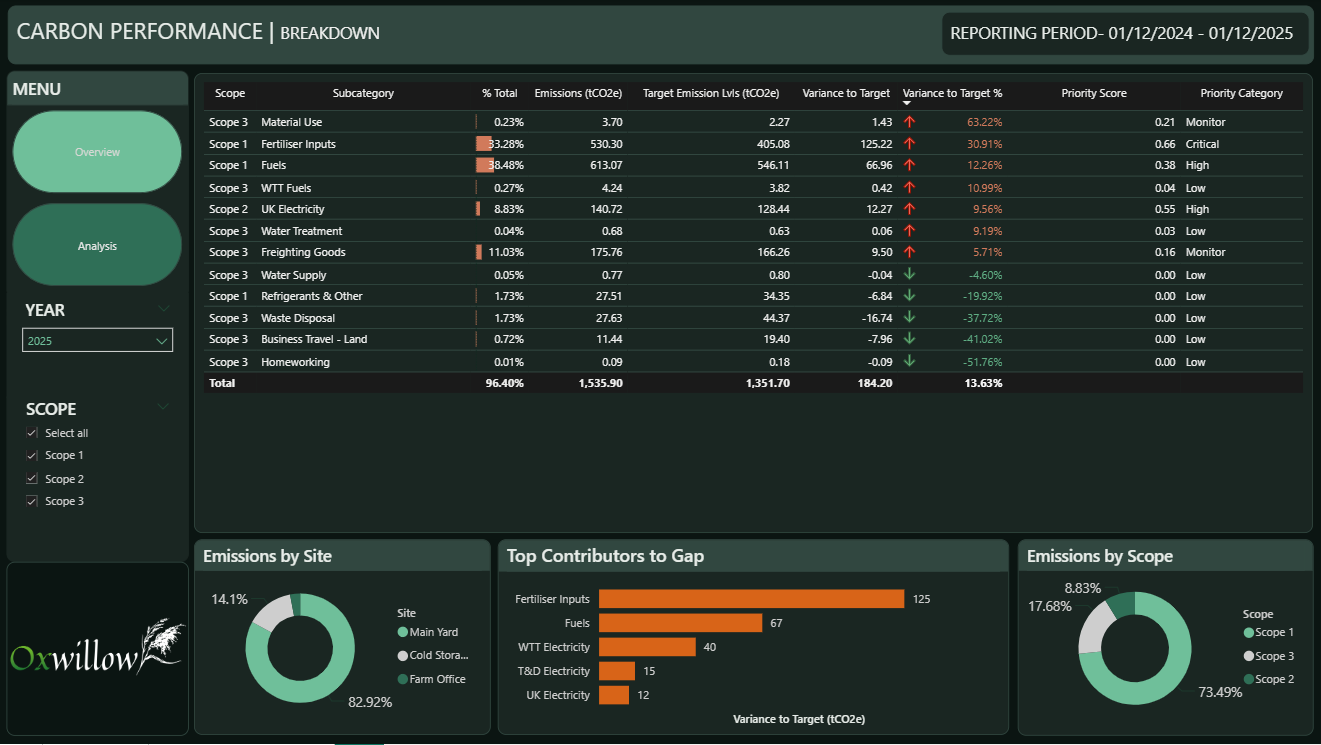

This screenshot's page, from the dashboard's own definition file:
{"tool":"powerbi","page":{"name":"Analysis","canvas":[1280,720],"ordinal":1},"visuals":[{"type":"textbox","box":[7.9,7.1,1260.7,57.1],"z":0},{"type":"slicer","title":"SCOPE","fields":{"Values":["4yrs of C.Scope"]},"box":[7.7,379.1,176.2,165.5],"z":0,"group":"g1"},{"type":"pageNavigator","title":"MENU","box":[7.7,70,176,219.7],"z":1000,"group":"g1"},{"type":"tableEx","fields":{"Values":["4yrs of C.Scope","4yrs of C.Subcategory","4yrs of C.% of Total Emissions (Selected Year)","4yrs of C.Total tCO2e (Selected Year)","4yrs of C.Target tCO2e","4yrs of C.Variance to Target","4yrs of C.Variance to Target %","4yrs of C.Priority Score","4yrs of C.Priority Category"]},"box":[188.6,72.1,1080,444.3],"z":1000},{"type":"slicer","title":"YEAR","fields":{"Values":["4yrs of C.Year"]},"box":[7.8,284.9,176,100.5],"z":2000,"group":"g1"},{"type":"barChart","title":"Top Contributors to Gap ","fields":{"Category":["4yrs of C.Subcategory"],"Y":["4yrs of C.Variance to Target"]},"box":[480.9,522.7,493.6,189.1],"z":2000},{"type":"donutChart","title":"Emissions by Scope","fields":{"Category":["4yrs of C.Scope"],"Y":["4yrs of C.Total tCO2e (Selected Year)"]},"box":[982.9,522.9,285.7,189.3],"z":3000},{"type":"donutChart","title":"Emissions by Site","fields":{"Category":["4yrs of C.Site"],"Y":["4yrs of C.Total tCO2e (Selected Year)"]},"box":[188.2,522.7,286.4,189.1],"z":4000},{"type":"textbox","box":[910,13.1,355.4,42.3],"z":5000},{"type":"group","id":"g1","title":"Menu","box":[7.7,70,176.2,474.6],"z":6000},{"type":"image","box":[7.2,544.1,176.1,167.7],"z":7000}]}

Visuals, with their boxes in screenshot pixels (x1, y1, x2, y2), scaled from the page's 1280x720 canvas onto the 1321x745 screenshot:
textbox: (8,7,1309,66)
"SCOPE" slicer: (8,392,190,564)
"MENU" pageNavigator: (8,72,190,300)
tableEx - 4yrs of C.Scope x 4yrs of C.Subcategory: (195,75,1309,534)
"YEAR" slicer: (8,295,190,399)
"Top Contributors to Gap " barChart: (496,541,1006,737)
"Emissions by Scope" donutChart: (1014,541,1309,737)
"Emissions by Site" donutChart: (194,541,490,737)
textbox: (939,14,1306,57)
"Menu" group: (8,72,190,564)
image: (7,563,189,737)
